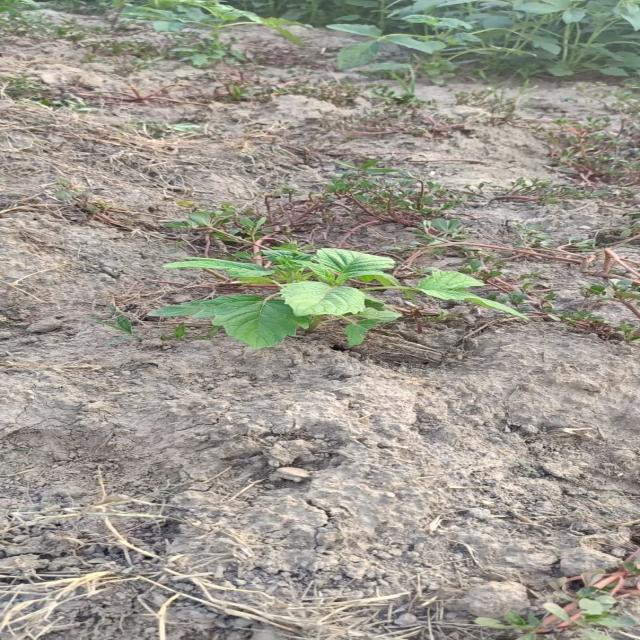plant: (148, 248, 523, 349)
